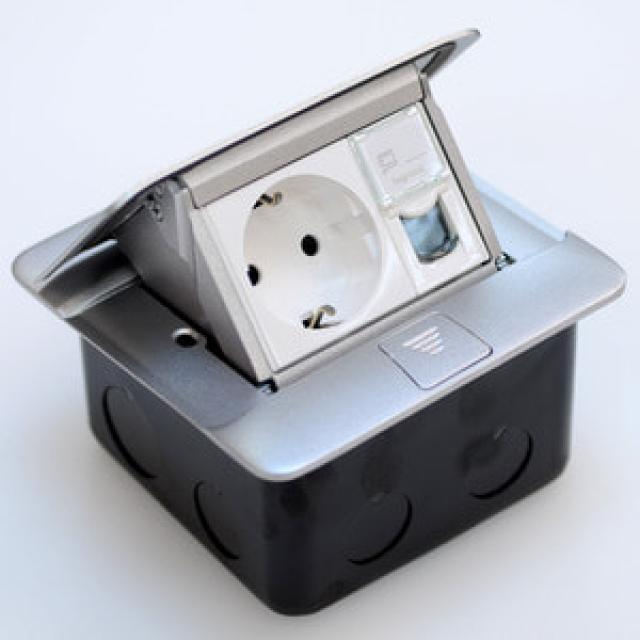typeb: (211, 167, 427, 352)
